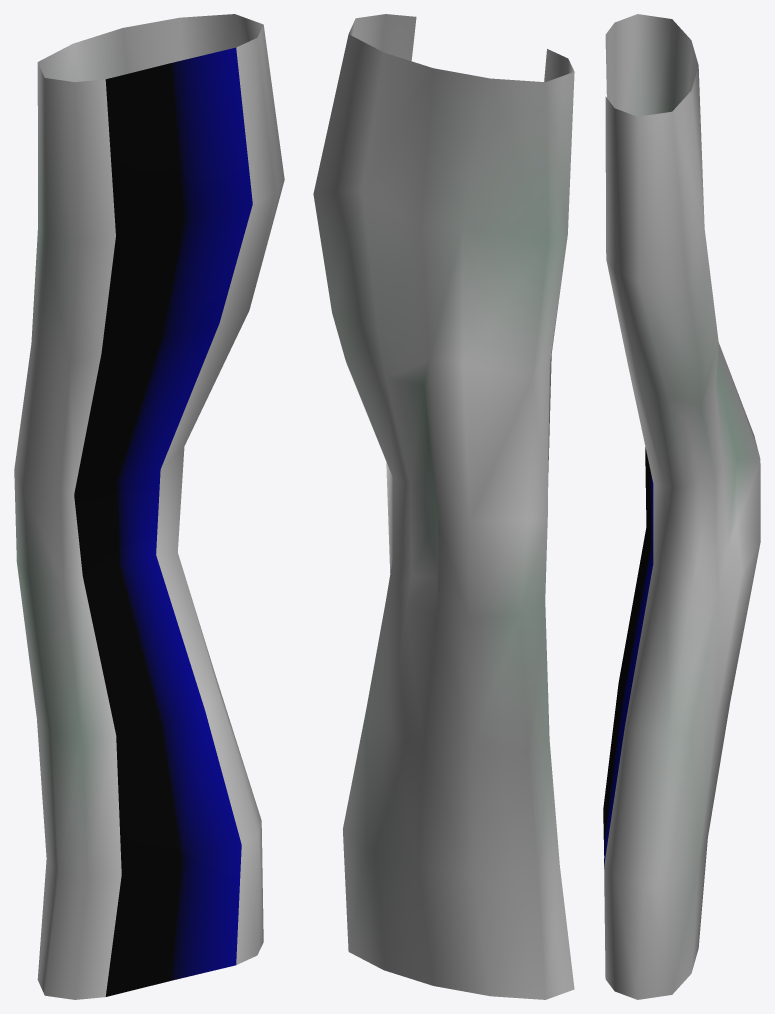
File: Volcano_BridgeStraightA.glb
3 renders of one model, left to right at view 1: azimuth 30°, elevation 25°; view 2: azimuth 150°, elevation 25°; view 3: azimuth 270°, elevation 25°, orthographic. The views are drawn at different scales.
Visible parts, largest first — view 1: MeshNode_1, MeshNode_0; view 2: MeshNode_0; view 3: MeshNode_0, MeshNode_1.
Part boxes in pixels (bbox=[...]): MeshNode_1: bbox=[74, 47, 252, 996]; MeshNode_0: bbox=[14, 14, 284, 999]; MeshNode_0: bbox=[313, 14, 574, 999]; MeshNode_0: bbox=[604, 14, 760, 999]; MeshNode_1: bbox=[603, 447, 653, 865].
Bounding box in the file's own units: 35.12 × 128 × 20.7.
